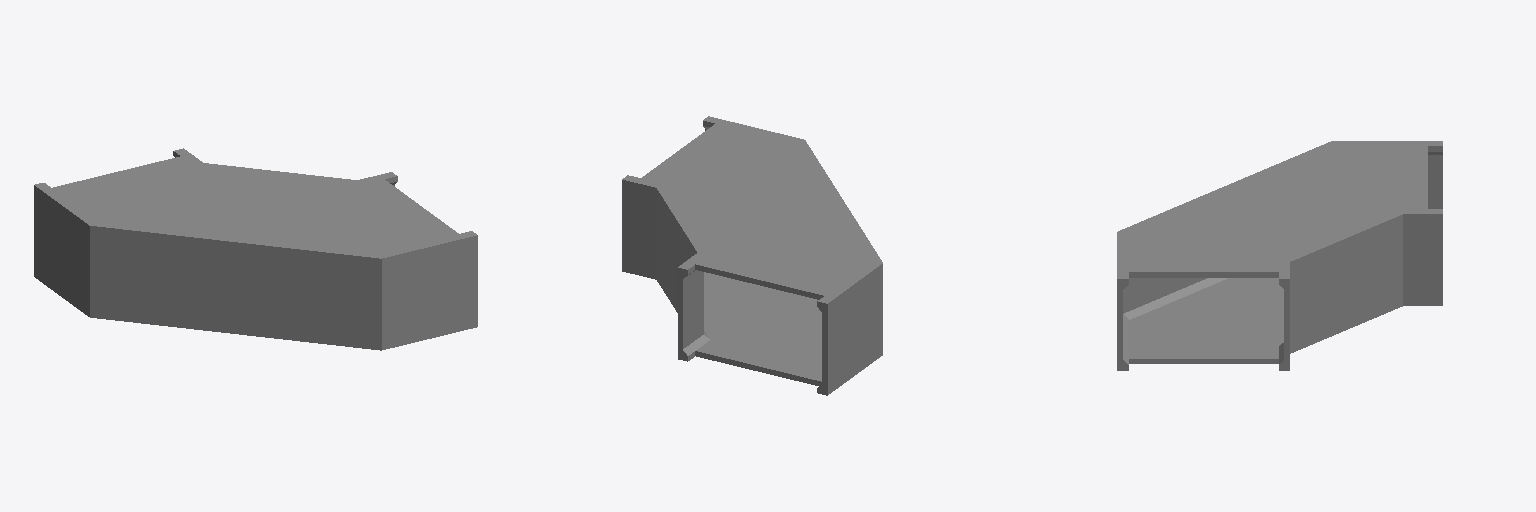
3 renders of one model, left to right at view 1: azimuth 30°, elevation 25°; view 2: azimuth 150°, elevation 25°; view 3: azimuth 270°, elevation 25°, orthographic.
Visible parts, largest first — view 1: SM_45Turn_E; view 2: SM_45Turn_E; view 3: SM_45Turn_E.
Part boxes in pixels (left/top/right/bottom): SM_45Turn_E: left=34, top=148, right=477, bottom=350; SM_45Turn_E: left=622, top=116, right=882, bottom=395; SM_45Turn_E: left=1117, top=141, right=1442, bottom=370.
Size of the model in its own units: 429 by 134 by 429.